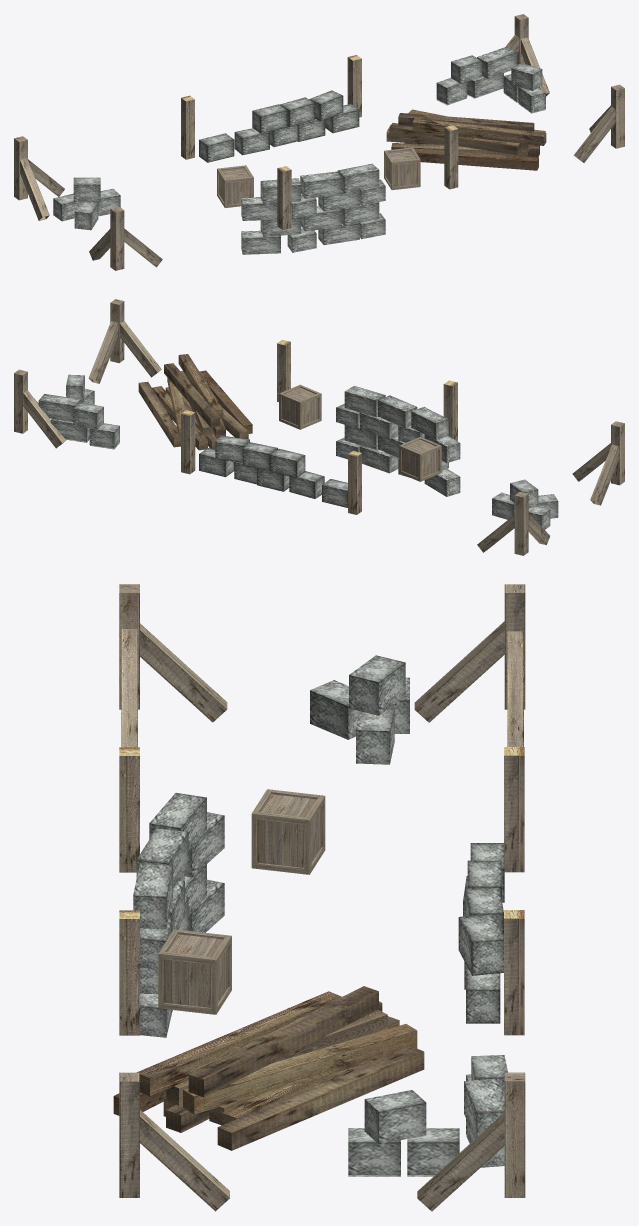
The model's file is fndn_6x2.glb.
3 views of the same model, one above another, from view 1: azimuth 30°, elevation 25°; view 2: azimuth 150°, elevation 25°; view 3: azimuth 270°, elevation 25° (orthographic). The views are drawn at different scales.
Parts seen in each view (by area): view 1: fndn_6x2_part13, fndn_6x2_part11, fndn_6x2_part12, fndn_6x2_part23, fndn_6x2_part2, fndn_6x2_part3, fndn_6x2_part4, fndn_6x2_part9, fndn_6x2_part10, fndn_6x2_part1, fndn_6x2_part6, fndn_6x2_part7 (+10 smaller); view 2: fndn_6x2_part13, fndn_6x2_part11, fndn_6x2_part12, fndn_6x2_part4, fndn_6x2_part3, fndn_6x2_part2, fndn_6x2_part23, fndn_6x2_part1, fndn_6x2_part10, fndn_6x2_part9, fndn_6x2_part8, fndn_6x2_part5 (+10 smaller); view 3: fndn_6x2_part11, fndn_6x2_part13, fndn_6x2_part12, fndn_6x2_part23, fndn_6x2_part2, fndn_6x2_part3, fndn_6x2_part10, fndn_6x2_part9, fndn_6x2_part1, fndn_6x2_part4, fndn_6x2_part7, fndn_6x2_part8 (+6 smaller).
Boxes of the visible parts, left/top/right/bottom form: fndn_6x2_part13: left=241, top=163, right=385, bottom=254; fndn_6x2_part11: left=386, top=109, right=546, bottom=170; fndn_6x2_part12: left=436, top=46, right=545, bottom=113; fndn_6x2_part23: left=53, top=177, right=120, bottom=230; fndn_6x2_part2: left=14, top=136, right=64, bottom=220; fndn_6x2_part3: left=89, top=207, right=162, bottom=270; fndn_6x2_part4: left=574, top=84, right=624, bottom=162; fndn_6x2_part9: left=384, top=147, right=420, bottom=190; fndn_6x2_part10: left=217, top=165, right=253, bottom=207; fndn_6x2_part1: left=505, top=14, right=549, bottom=96; fndn_6x2_part6: left=277, top=166, right=291, bottom=229; fndn_6x2_part7: left=444, top=125, right=458, bottom=189; fndn_6x2_part13: left=336, top=386, right=460, bottom=496; fndn_6x2_part11: left=138, top=354, right=252, bottom=450; fndn_6x2_part12: left=38, top=374, right=119, bottom=449; fndn_6x2_part4: left=88, top=299, right=161, bottom=383; fndn_6x2_part3: left=572, top=421, right=624, bottom=505; fndn_6x2_part2: left=477, top=492, right=549, bottom=555; fndn_6x2_part23: left=492, top=479, right=558, bottom=529; fndn_6x2_part1: left=14, top=369, right=66, bottom=448; fndn_6x2_part10: left=399, top=436, right=441, bottom=481; fndn_6x2_part9: left=279, top=384, right=321, bottom=429; fndn_6x2_part8: left=181, top=410, right=195, bottom=474; fndn_6x2_part5: left=348, top=451, right=361, bottom=514; fndn_6x2_part11: left=113, top=986, right=424, bottom=1150; fndn_6x2_part13: left=133, top=792, right=224, bottom=1037; fndn_6x2_part12: left=348, top=1055, right=507, bottom=1176; fndn_6x2_part23: left=310, top=655, right=409, bottom=764; fndn_6x2_part2: left=414, top=584, right=525, bottom=746; fndn_6x2_part3: left=119, top=584, right=227, bottom=747; fndn_6x2_part10: left=251, top=789, right=325, bottom=874; fndn_6x2_part9: left=158, top=929, right=231, bottom=1014; fndn_6x2_part1: left=417, top=1072, right=525, bottom=1211; fndn_6x2_part4: left=119, top=1072, right=229, bottom=1211; fndn_6x2_part7: left=119, top=910, right=139, bottom=1035; fndn_6x2_part8: left=504, top=910, right=524, bottom=1035.
Bounding box in the file's own units: 5.13 × 0.971 × 1.8.
Materials: 3 (3 with a texture image).
